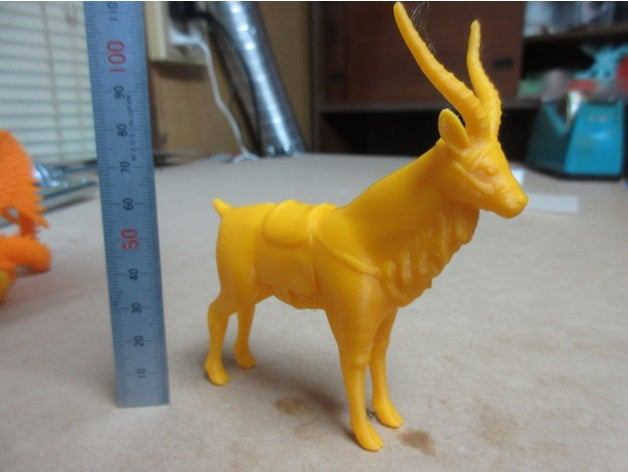Good: (171, 2, 551, 458)
